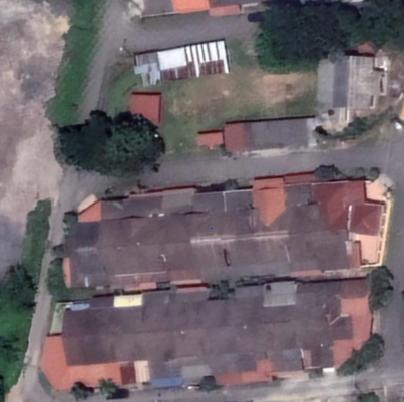building: (318, 176, 391, 275), (46, 186, 110, 293), (32, 296, 96, 398), (228, 284, 275, 389), (200, 286, 244, 391), (332, 276, 379, 369), (287, 166, 325, 280), (161, 184, 202, 289), (254, 172, 292, 282), (131, 189, 170, 294), (192, 182, 231, 287), (263, 279, 303, 381), (101, 194, 140, 295), (223, 182, 262, 282), (172, 285, 211, 384), (298, 279, 336, 377), (145, 286, 180, 390), (116, 291, 151, 389), (91, 293, 120, 392)
